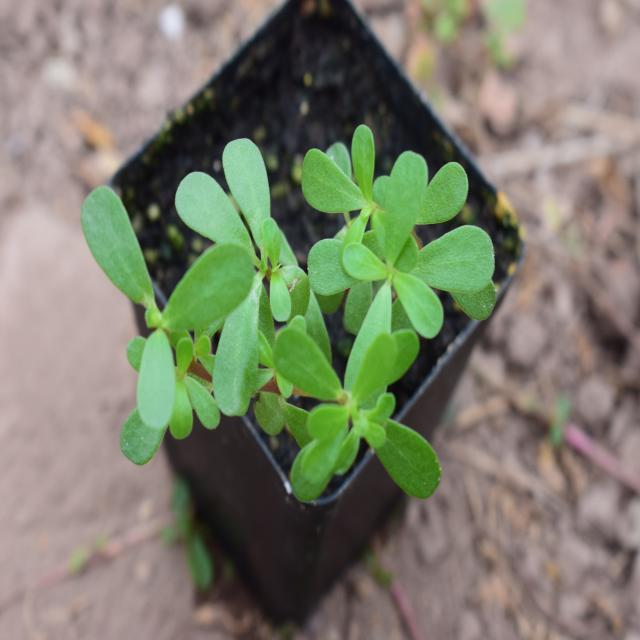purslane: (74, 104, 490, 491)
